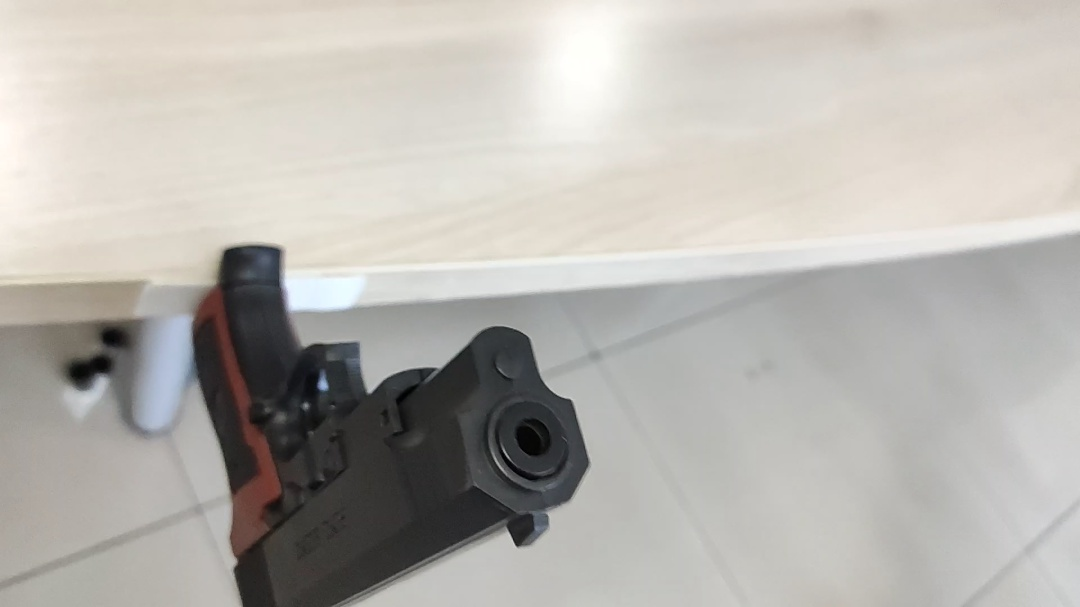gun: (377, 313, 411, 348)
